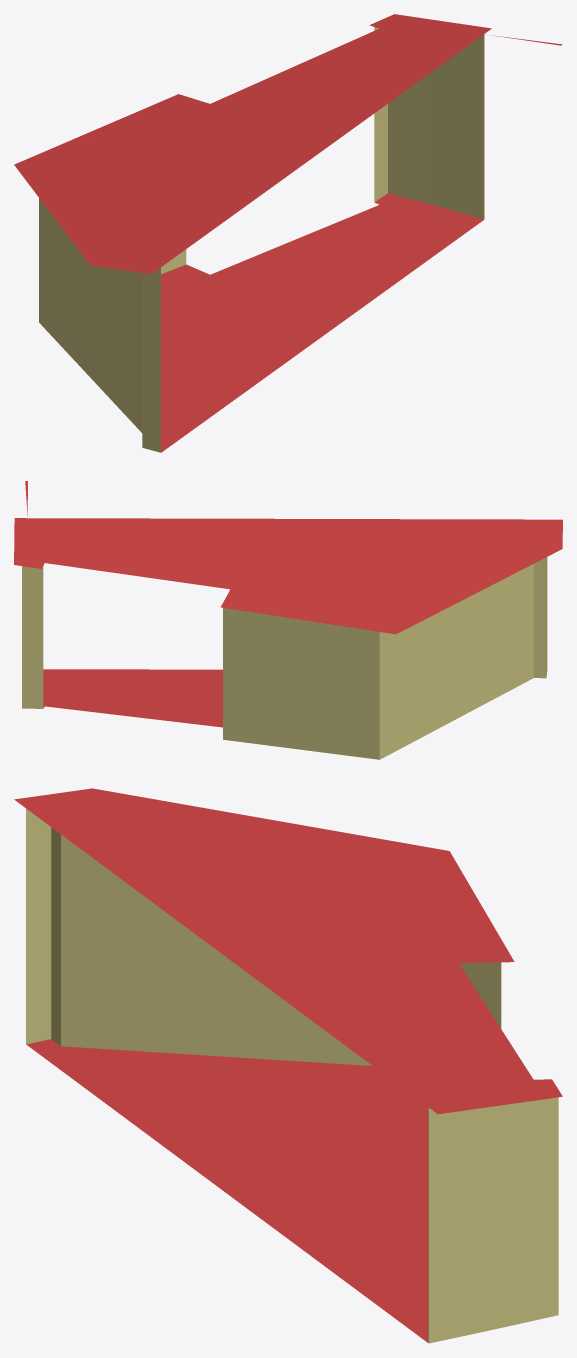
The picture shows the model from 3 angles, top to bottom: view 1: azimuth 30°, elevation 25°; view 2: azimuth 150°, elevation 25°; view 3: azimuth 270°, elevation 25°; orthographic projection. The views are drawn at different scales.
Size of the model in its own units: 29.87 by 19.71 by 9.74.
